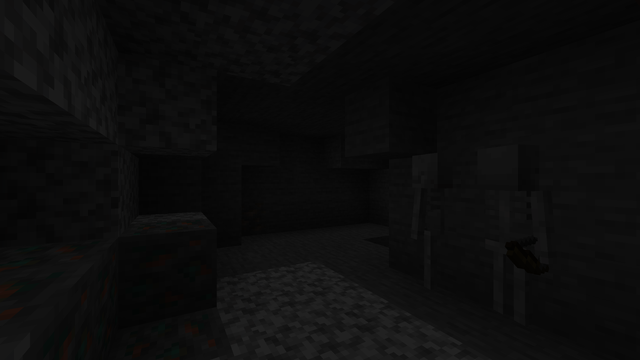squelettes: (472, 143, 549, 336), (407, 152, 457, 297)
